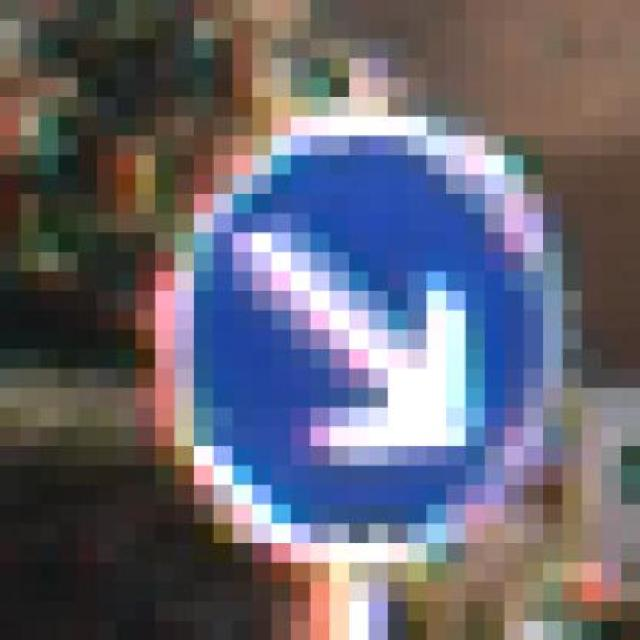Keep-Right: (116, 97, 601, 601)
